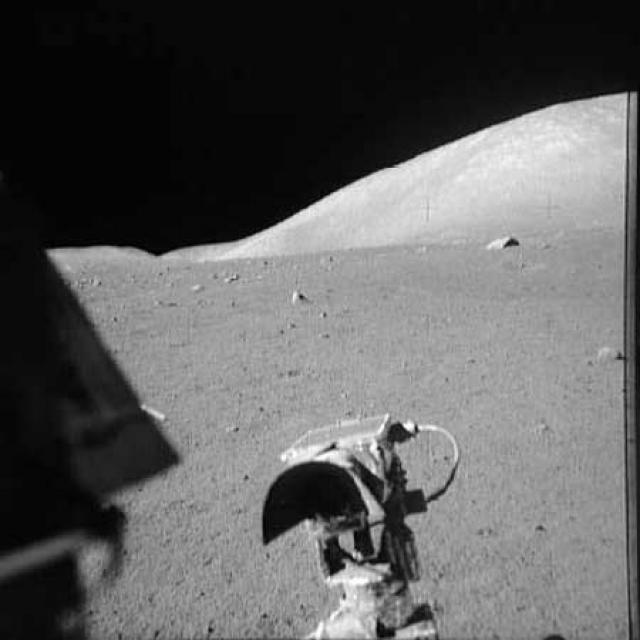artifact: (1, 220, 180, 639), (255, 402, 465, 638)
rock: (590, 336, 624, 366), (487, 228, 522, 249), (282, 284, 311, 308)
